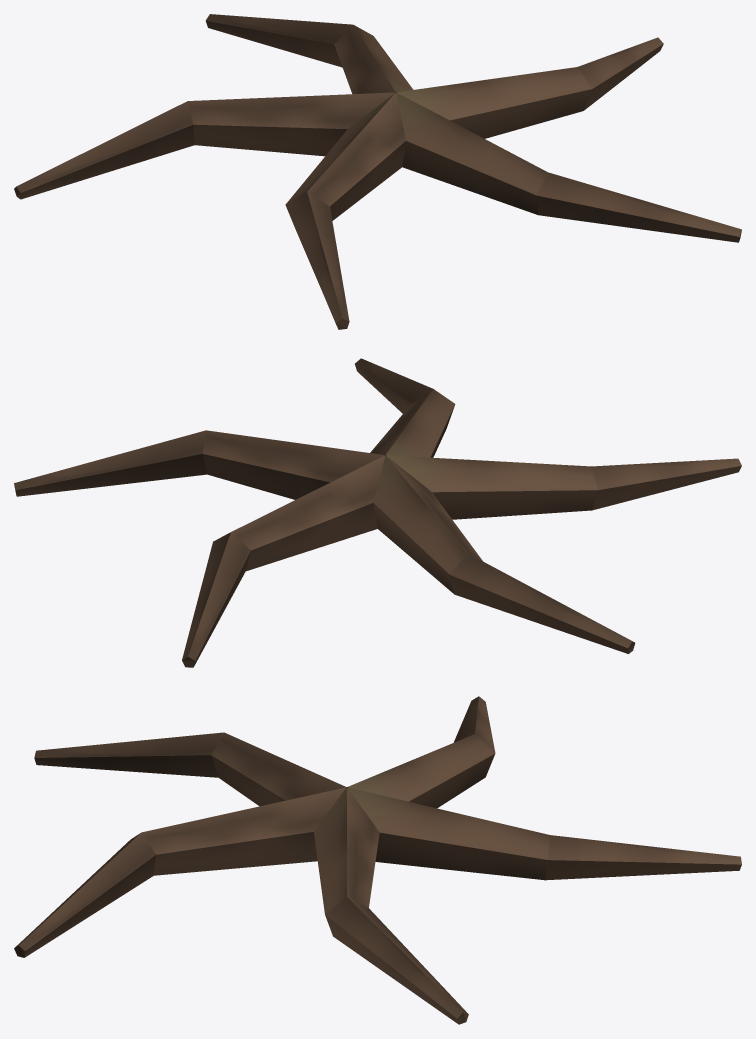
Rendered from SM_Roots01.fbx.
3 views of the same model, one above another, from view 1: azimuth 30°, elevation 25°; view 2: azimuth 150°, elevation 25°; view 3: azimuth 270°, elevation 25° (orthographic). The views are drawn at different scales.
Visible parts, largest first — view 1: SM_Roots01; view 2: SM_Roots01; view 3: SM_Roots01.
Part boxes in pixels (box(x1,y1,x2,y2)): SM_Roots01: box(14, 14, 741, 329); SM_Roots01: box(14, 358, 741, 667); SM_Roots01: box(14, 696, 741, 1024).
Bounding box in the file's own units: 4.97 × 0.5715 × 4.82.
1 material, 1 textured.
